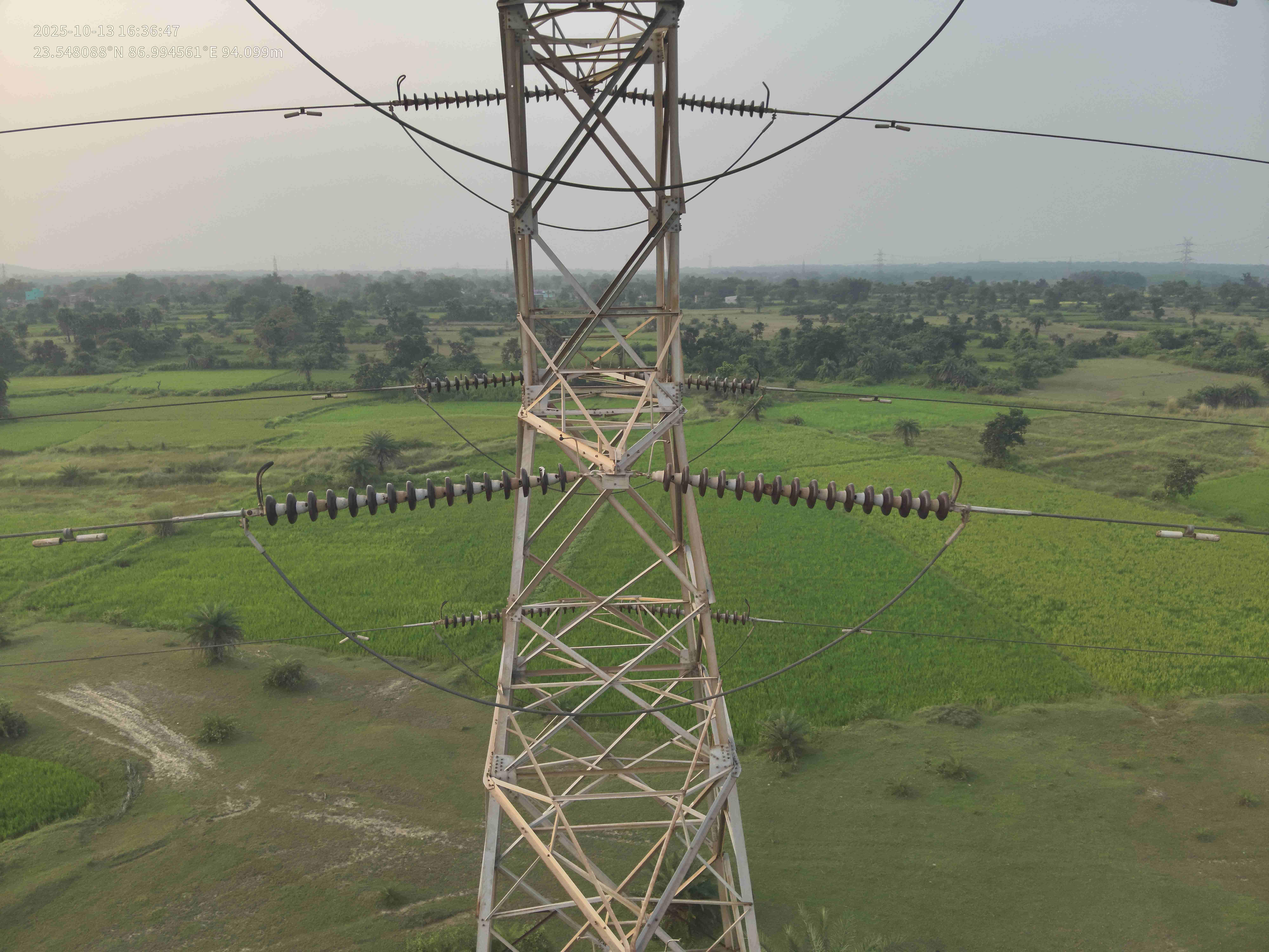broken_insulator: (535, 463, 553, 497), (478, 611, 485, 625)
